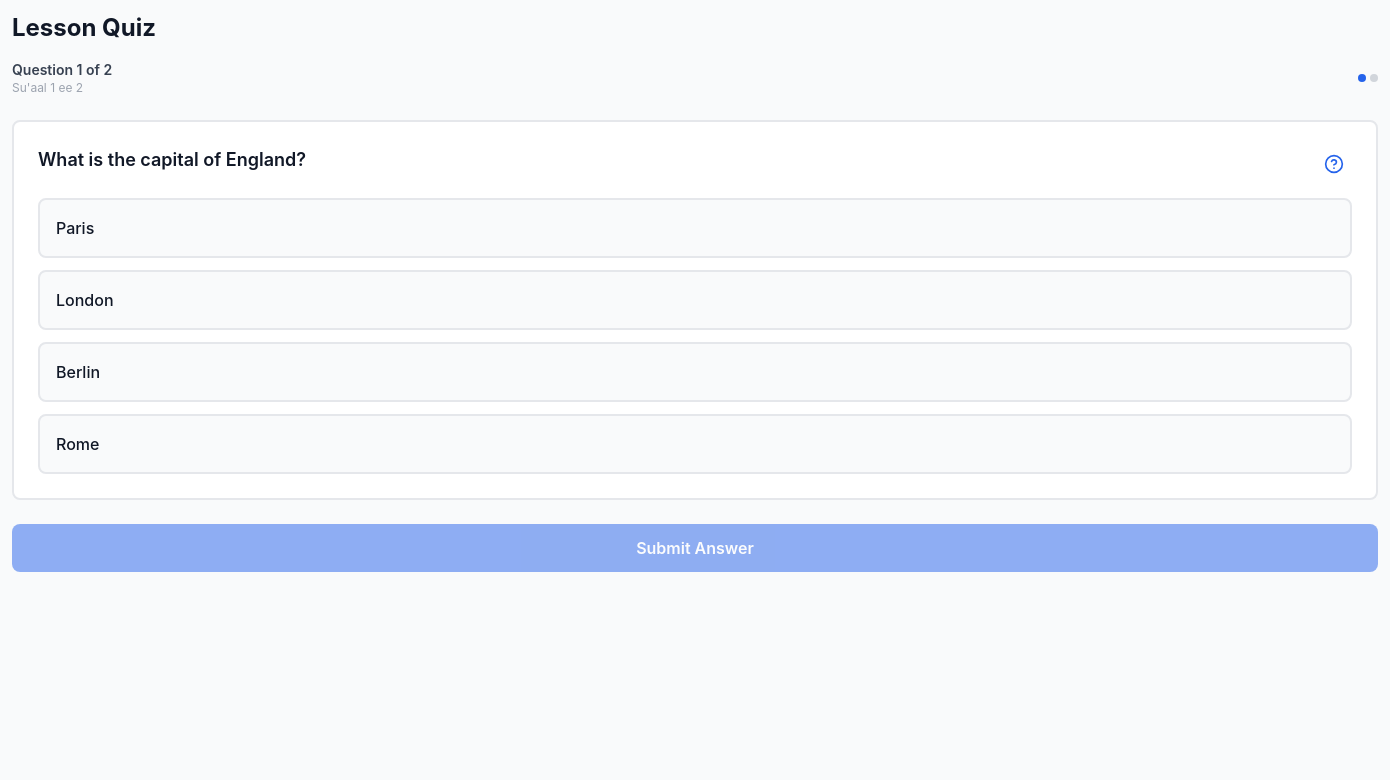
Test: Quiz component › reveals a Next Question button after answering
The width and height of the screenshot is (1390, 780).
Click the button "Paris" at [75, 228], box [38, 198, 1352, 258]
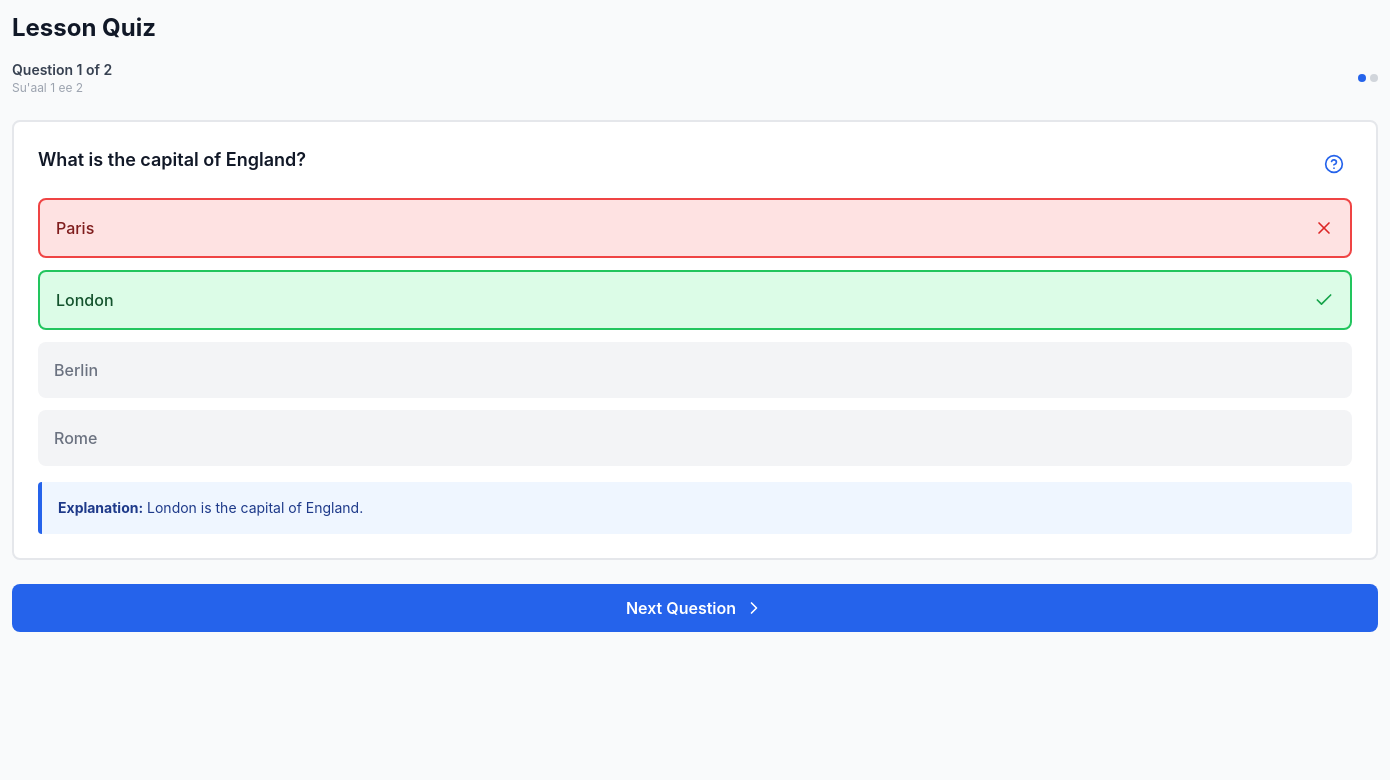
Now the button "Next Question" is shown, box [12, 584, 1378, 632]
